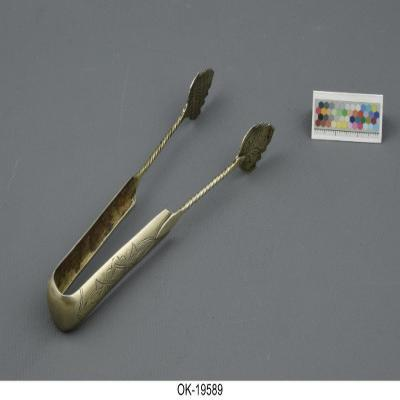dpi: (46, 69, 274, 334)
